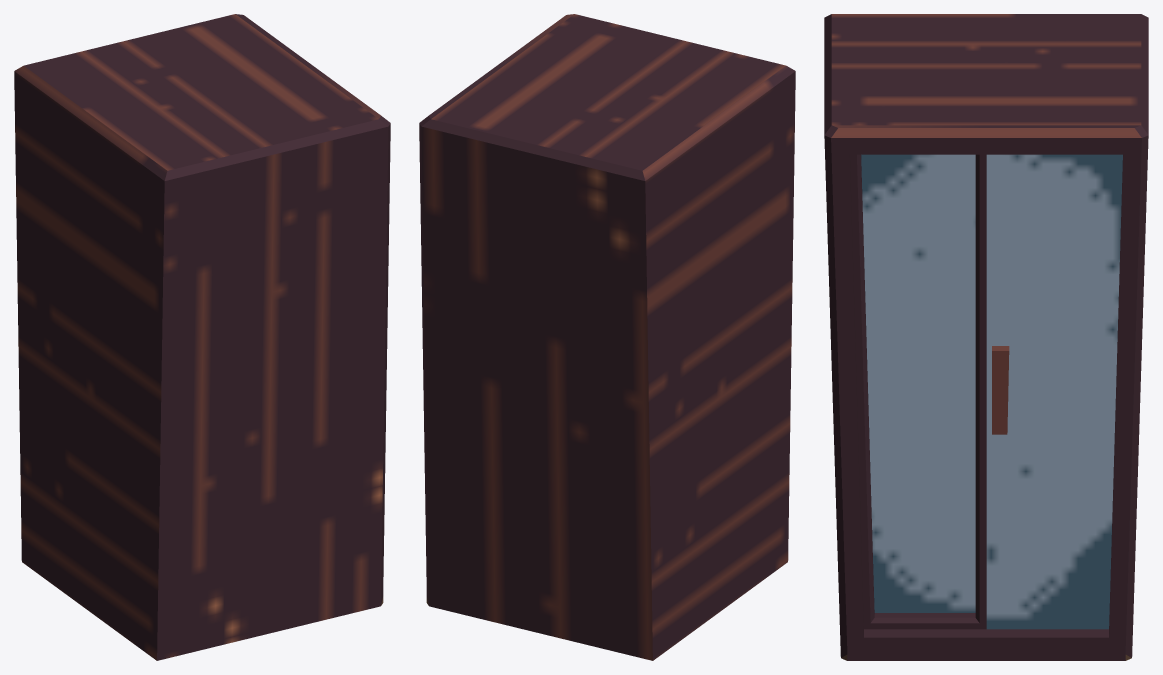
The model's file is ArmarioComVidro.fbx.
3 renders of one model, left to right at view 1: azimuth 30°, elevation 25°; view 2: azimuth 150°, elevation 25°; view 3: azimuth 270°, elevation 25°, orthographic. The views are drawn at different scales.
Parts seen in each view (by area): view 1: ArmarioComVidro; view 2: ArmarioComVidro; view 3: ArmarioComVidro.
Part boxes in pixels (<box>): ArmarioComVidro: <box>14,14,390,660</box>; ArmarioComVidro: <box>419,14,795,660</box>; ArmarioComVidro: <box>824,14,1148,660</box>.
Size of the model in its own units: 97.54 by 111 by 200.
